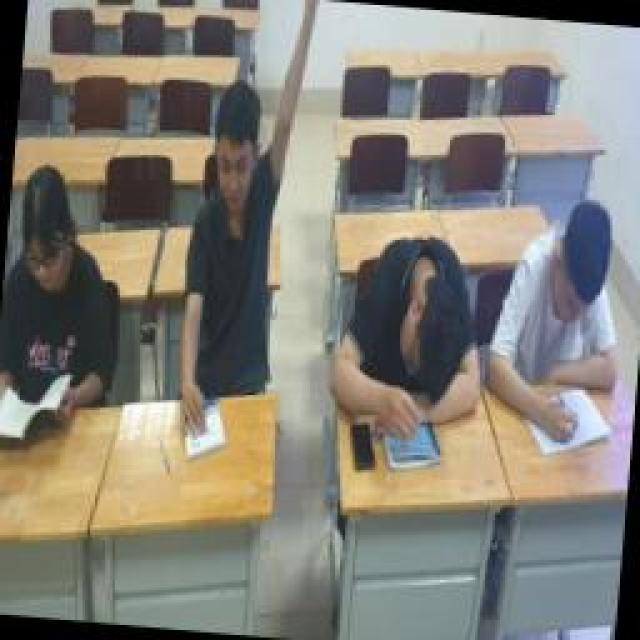sleep: (320, 230, 488, 478)
study: (162, 75, 302, 477), (478, 188, 630, 462), (0, 160, 125, 452)
